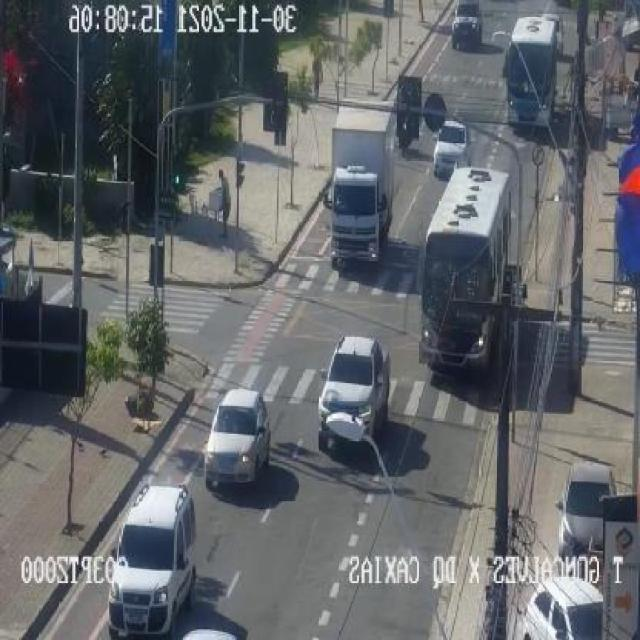Bus: (419, 165, 531, 368), (492, 6, 559, 144)
Car: (103, 472, 209, 630), (302, 325, 411, 447), (531, 446, 637, 570), (194, 379, 280, 484), (515, 548, 610, 640), (422, 110, 482, 180), (440, 2, 487, 60)
Truck: (307, 98, 413, 266)
